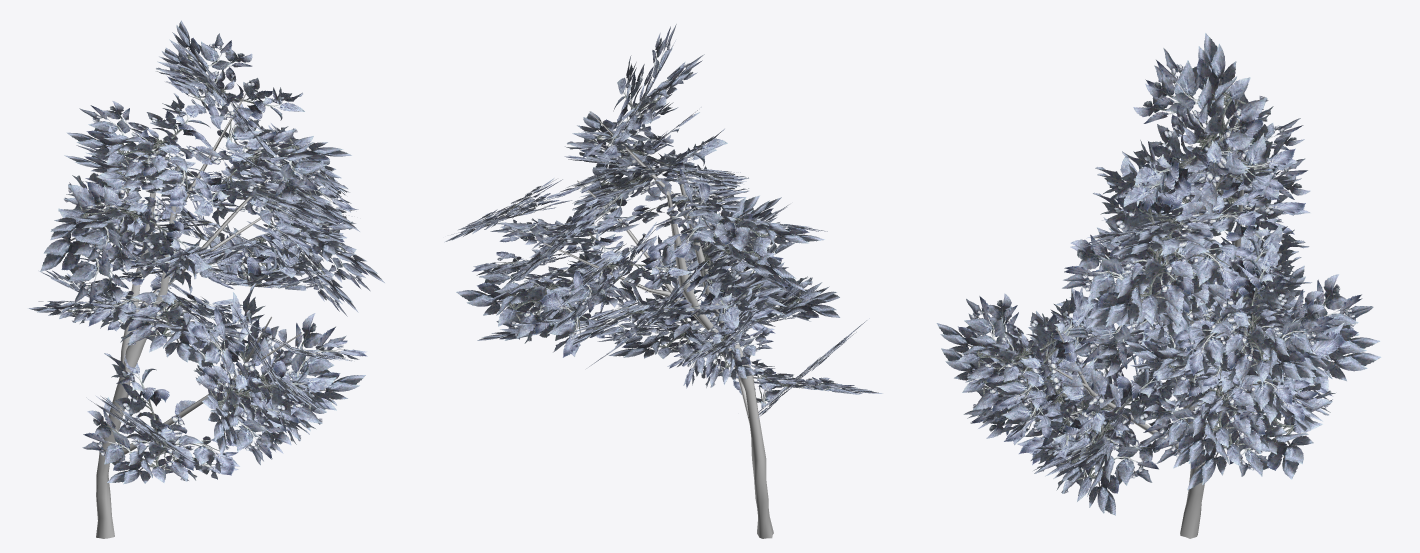
File: shrub_hazel_03_winter.DAE
The picture shows the model from 3 angles, left to right: view 1: azimuth 30°, elevation 25°; view 2: azimuth 150°, elevation 25°; view 3: azimuth 270°, elevation 25°; orthographic projection. The views are drawn at different scales.
Visible parts, largest first — view 1: shrub_hazel03_CommonHazelLeaves_1, shrub_hazel03_CommonHazelLeaves_002, shrub_hazel03_CommonHazelBark; view 2: shrub_hazel03_CommonHazelLeaves_1, shrub_hazel03_CommonHazelLeaves_002, shrub_hazel03_CommonHazelBark; view 3: shrub_hazel03_CommonHazelLeaves_1, shrub_hazel03_CommonHazelLeaves_002, shrub_hazel03_CommonHazelBark.
Part boxes in pixels (x1,y1,x2,y2): shrub_hazel03_CommonHazelLeaves_1: (28, 20, 384, 484); shrub_hazel03_CommonHazelLeaves_002: (34, 22, 381, 483); shrub_hazel03_CommonHazelBark: (96, 93, 301, 538); shrub_hazel03_CommonHazelLeaves_1: (444, 24, 882, 418); shrub_hazel03_CommonHazelLeaves_002: (446, 39, 878, 414); shrub_hazel03_CommonHazelBark: (536, 111, 773, 538); shrub_hazel03_CommonHazelLeaves_1: (936, 33, 1381, 515); shrub_hazel03_CommonHazelLeaves_002: (937, 34, 1378, 514); shrub_hazel03_CommonHazelBark: (1052, 174, 1243, 538).
Bounding box in the file's own units: 0.9458 × 1.22 × 0.9328.
